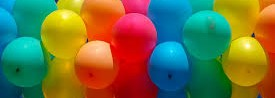Balloon: (2, 38, 50, 89), (183, 10, 231, 60), (40, 10, 87, 59), (75, 42, 119, 91), (222, 39, 268, 85), (148, 41, 191, 90), (113, 14, 155, 57), (80, 1, 124, 42), (213, 1, 259, 39), (43, 59, 85, 98), (13, 1, 55, 39)
